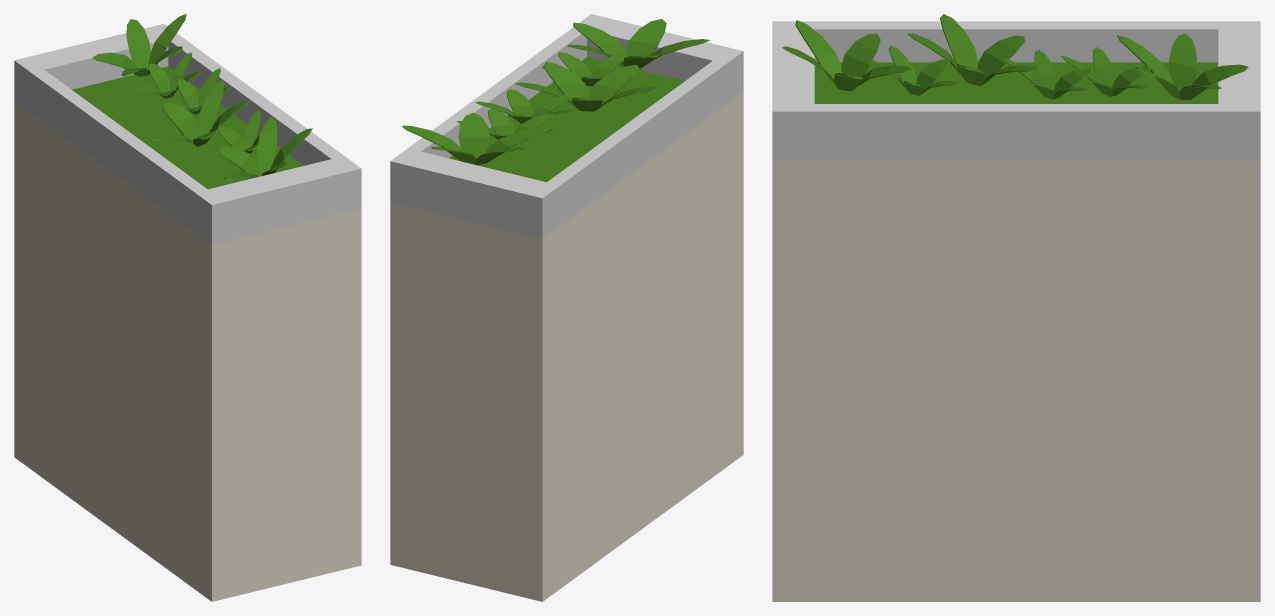
File: Pot.fbx
3 views of the same model, side by side, from view 1: azimuth 30°, elevation 25°; view 2: azimuth 150°, elevation 25°; view 3: azimuth 270°, elevation 25° (orthographic). The views are drawn at different scales.
Visible parts, largest first — view 1: vase, grasses; view 2: vase, grasses; view 3: vase, grasses.
Part boxes in pixels (box(x1,y1,x2,y2)): vase: box(14, 24, 361, 601); grasses: box(92, 14, 312, 180); vase: box(390, 14, 743, 601); grasses: box(402, 19, 709, 164); vase: box(772, 21, 1260, 601); grasses: box(782, 14, 1248, 100).
Bounding box in the file's own units: 175 × 449 × 385.
